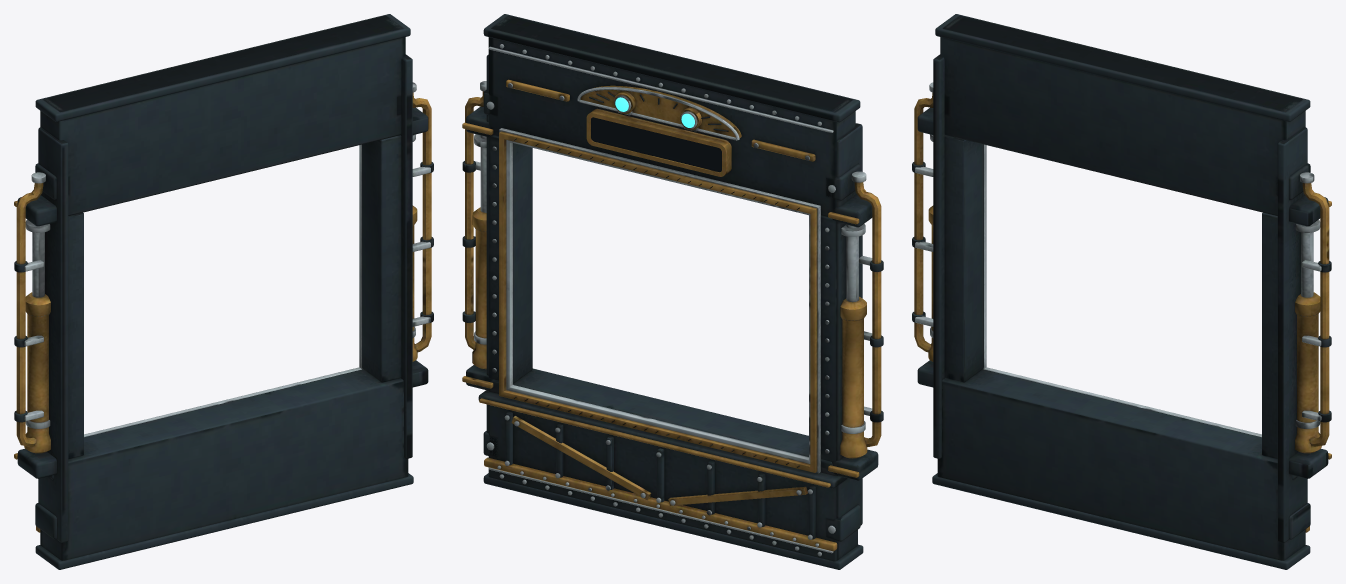
3 renders of one model, left to right at view 1: azimuth 30°, elevation 25°; view 2: azimuth 150°, elevation 25°; view 3: azimuth 330°, elevation 25°, orthographic.
Parts seen in each view (by area): view 1: Armored_graphite_steel, Engraved_bullion_brass, Satin_chrome; view 2: Armored_graphite_steel, Engraved_bullion_brass, Satin_chrome, Flat_dark_inset_and_joints; view 3: Armored_graphite_steel, Engraved_bullion_brass, Satin_chrome.
Part boxes in pixels (x1,y1,x2,y2): Armored_graphite_steel: [14, 14, 433, 569]; Engraved_bullion_brass: [14, 92, 431, 532]; Satin_chrome: [24, 82, 430, 437]; Armored_graphite_steel: [462, 14, 883, 569]; Engraved_bullion_brass: [462, 79, 881, 551]; Satin_chrome: [474, 44, 872, 556]; Flat_dark_inset_and_joints: [591, 117, 721, 172]; Armored_graphite_steel: [912, 14, 1331, 569]; Engraved_bullion_brass: [914, 92, 1331, 532]; Satin_chrome: [915, 82, 1321, 437].
Bounding box in the file's own units: 9.63 × 10 × 1.3.
5 materials, 4 textured.
